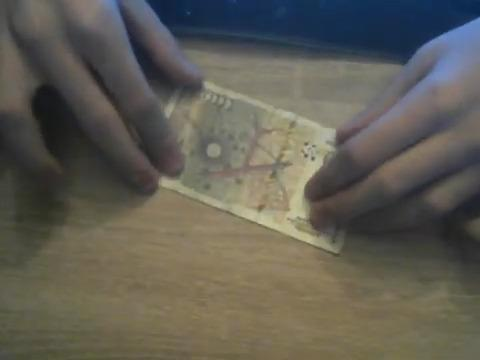10leva: (162, 84, 344, 255)
